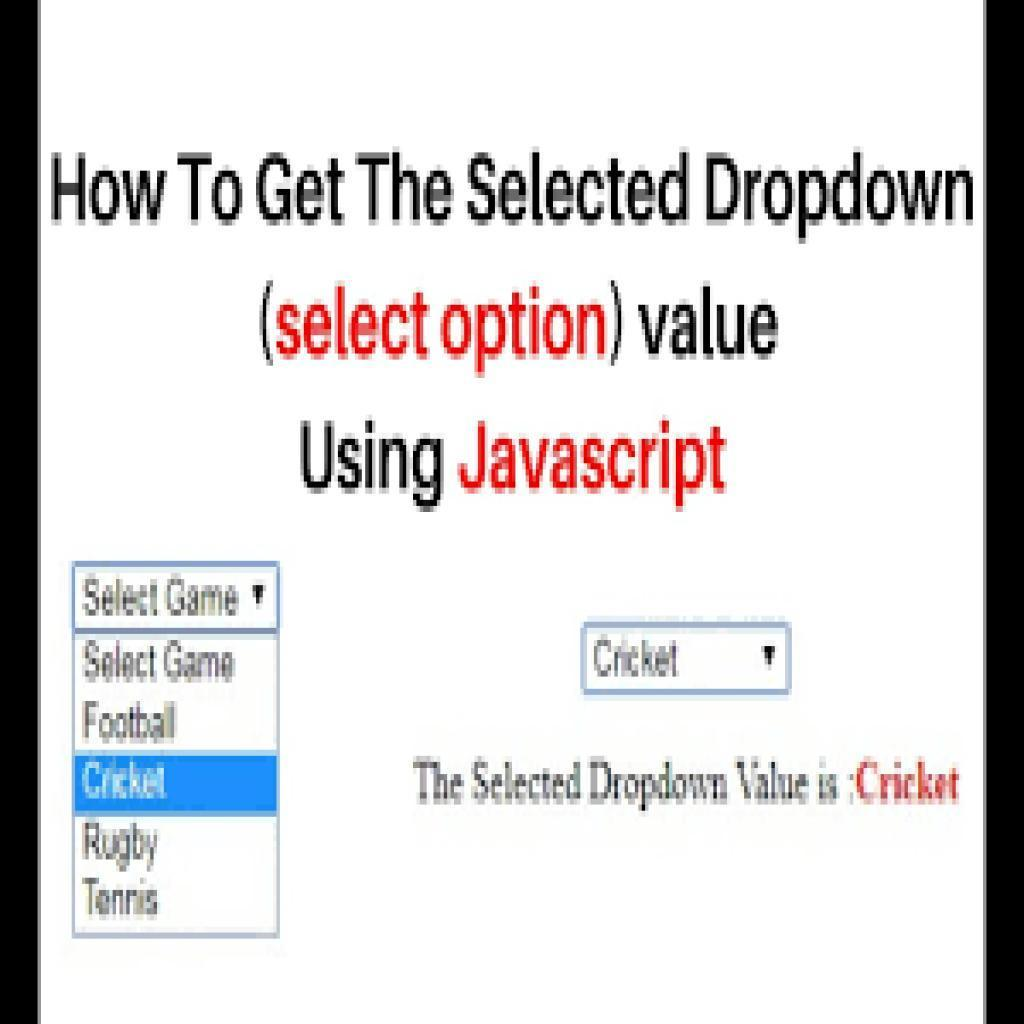button: (74, 751, 281, 815)
dropdown: (580, 621, 794, 697), (72, 561, 283, 633), (278, 615, 279, 623)
